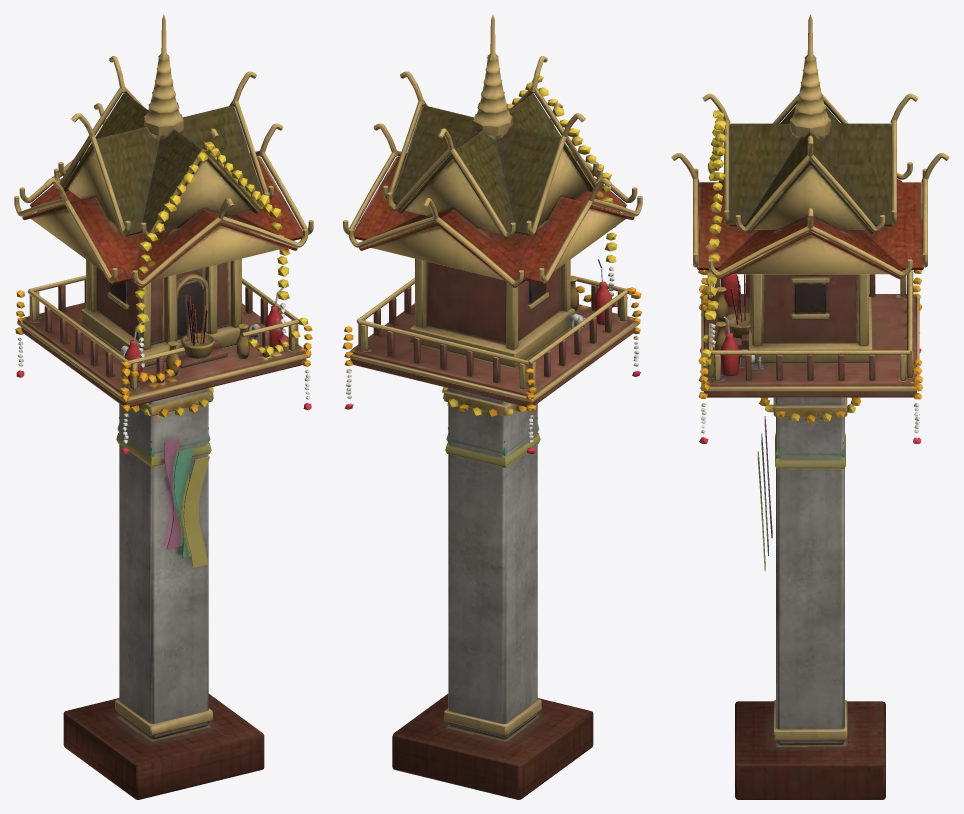
The model's file is spirit_house.glb.
3 views of the same model, side by side, from view 1: azimuth 30°, elevation 25°; view 2: azimuth 150°, elevation 25°; view 3: azimuth 270°, elevation 25° (orthographic).
Parts seen in each view (by area): view 1: spirit_house; view 2: spirit_house; view 3: spirit_house.
Boxes of the visible parts, x1,y1,x2,y2 form: spirit_house: (14,14,313,799); spirit_house: (342,14,642,799); spirit_house: (671,14,949,799).
Bounding box in the file's own units: 0.8097 × 2.42 × 0.8097.
Materials: 1 (1 with a texture image).
